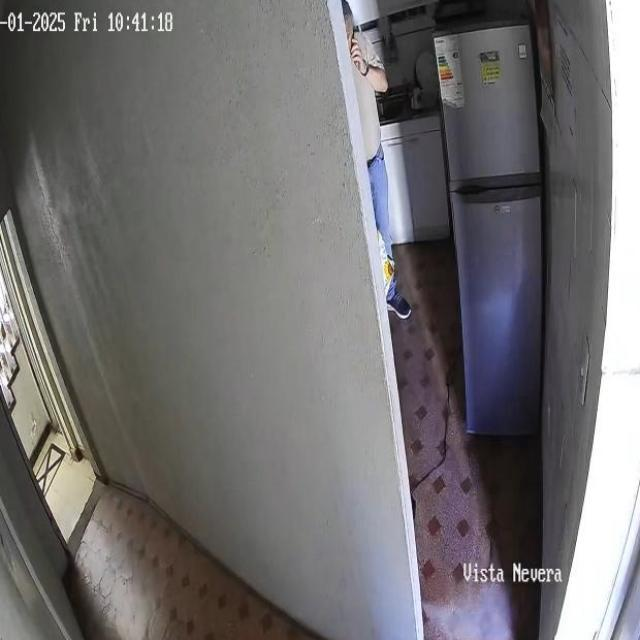fire: (420, 579, 515, 640)
